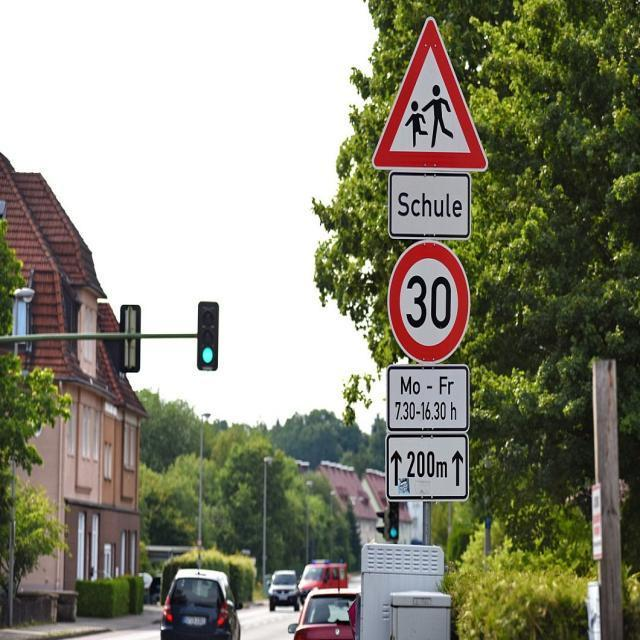Speed Limit -30-: (388, 242, 471, 364)
